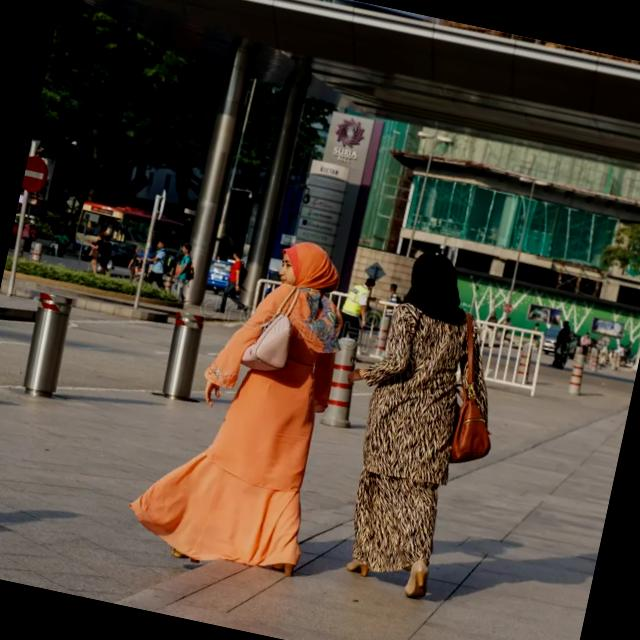Person: (112, 200, 380, 595), (319, 235, 536, 612)
